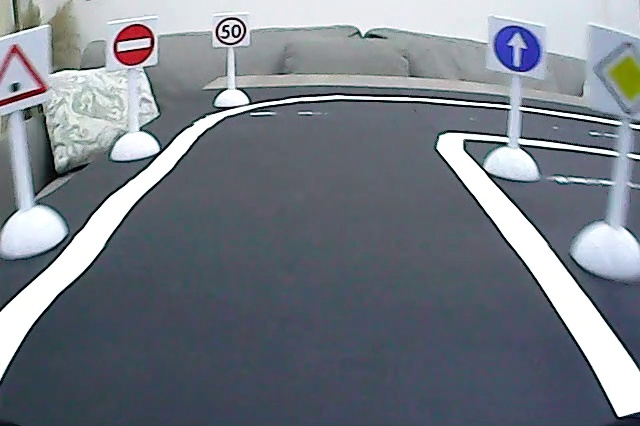do not enter: (110, 21, 157, 69)
green light: (1, 40, 50, 110)
speed limit 50: (214, 14, 248, 48)
